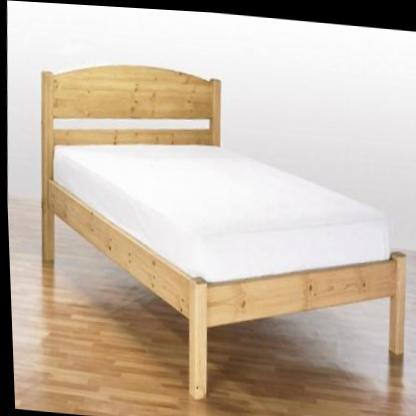Bed: (31, 55, 415, 416)
Wooden floor: (7, 253, 183, 416), (219, 294, 385, 416)
